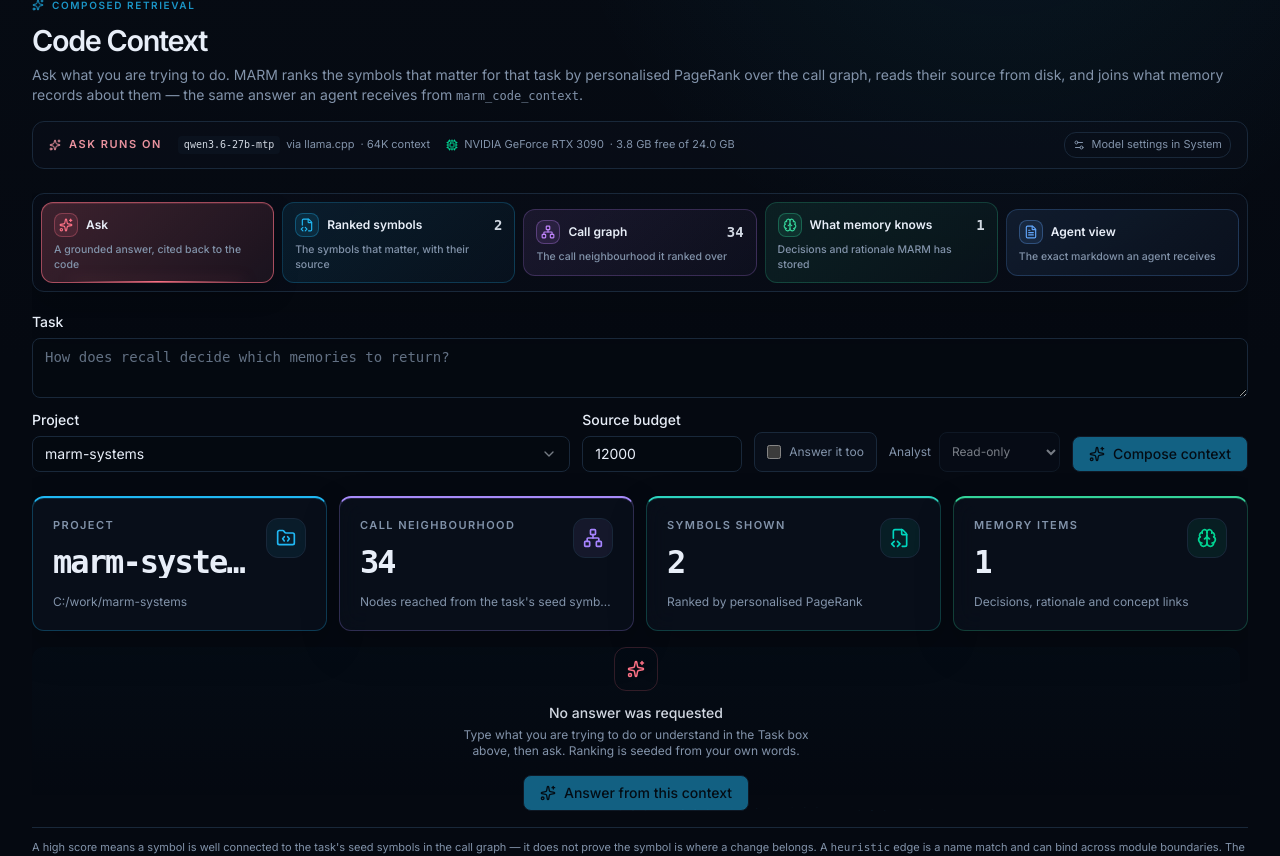
CodeContextPage › flags a heuristic edge, because it can bind across module boundaries
The width and height of the screenshot is (1280, 856).
Click the tab "Ranked symbols 2 The symbols that matter, with their source".
click(399, 243)  # box [282, 202, 515, 283]
(page scrolled)
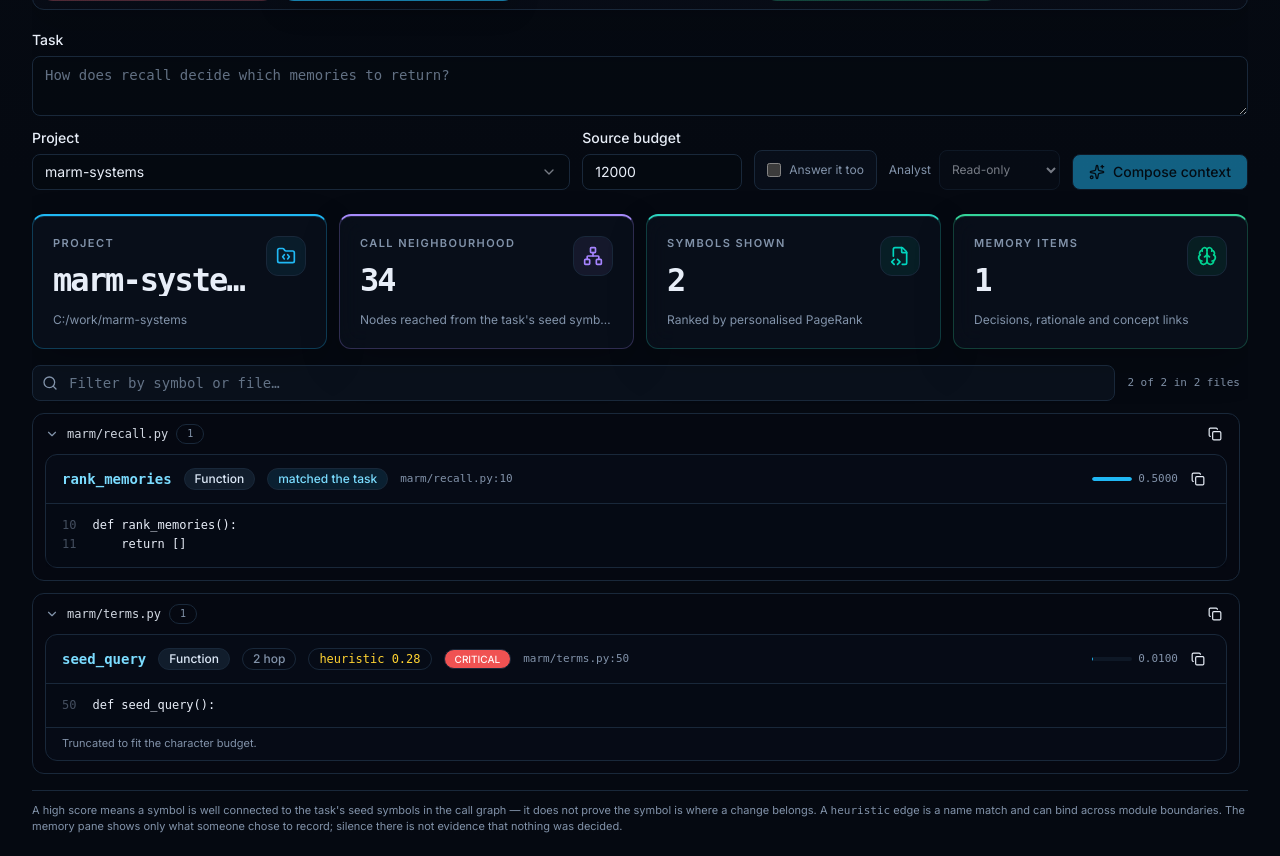
Expected: the text titled "bind across module boundaries" shows "heuristic", [319, 652, 384, 666]
Expected: the text "CRITICAL" is shown, [444, 648, 511, 669]
